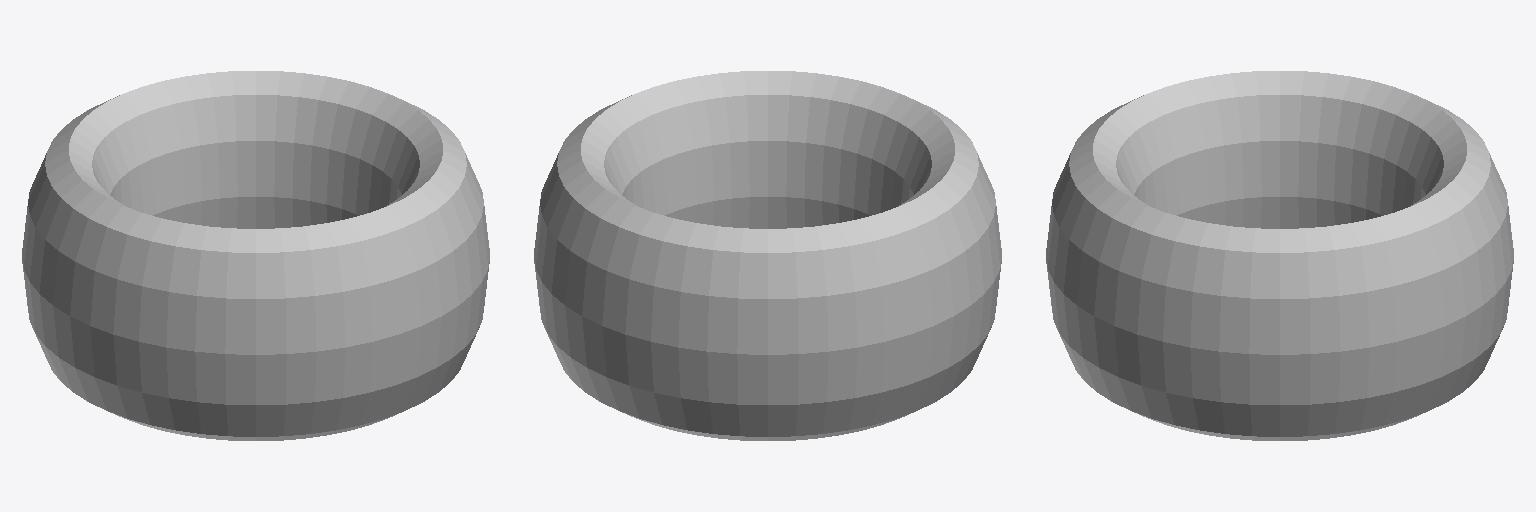
The model's file is donut.obj.
The picture shows the model from 3 angles: view 1: azimuth 30°, elevation 25°; view 2: azimuth 150°, elevation 25°; view 3: azimuth 270°, elevation 25°; orthographic projection.
Visible parts, largest first — view 1: Torus; view 2: Torus; view 3: Torus.
Part boxes in pixels (x1,y1,x2,y2): Torus: (22, 71, 489, 440); Torus: (534, 71, 1001, 440); Torus: (1046, 71, 1513, 440).
Size of the model in its own units: 1 by 0.5 by 1.